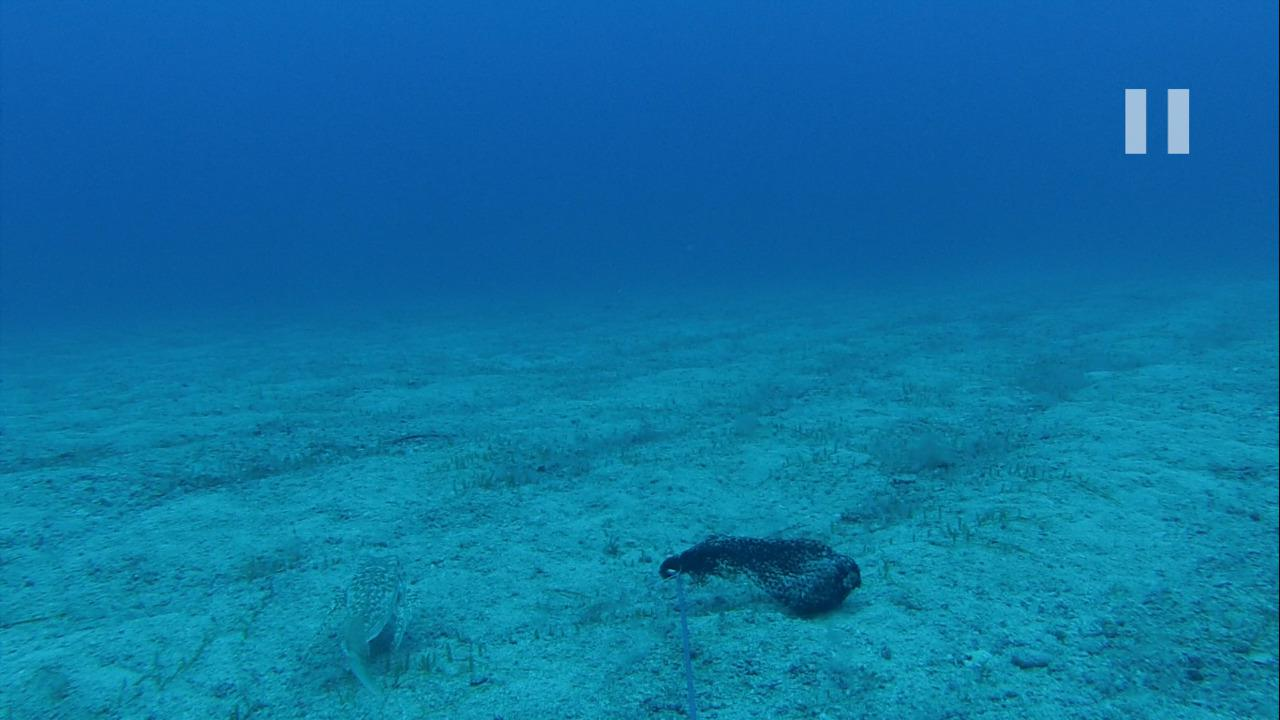dactylopterus: (318, 546, 409, 690)
